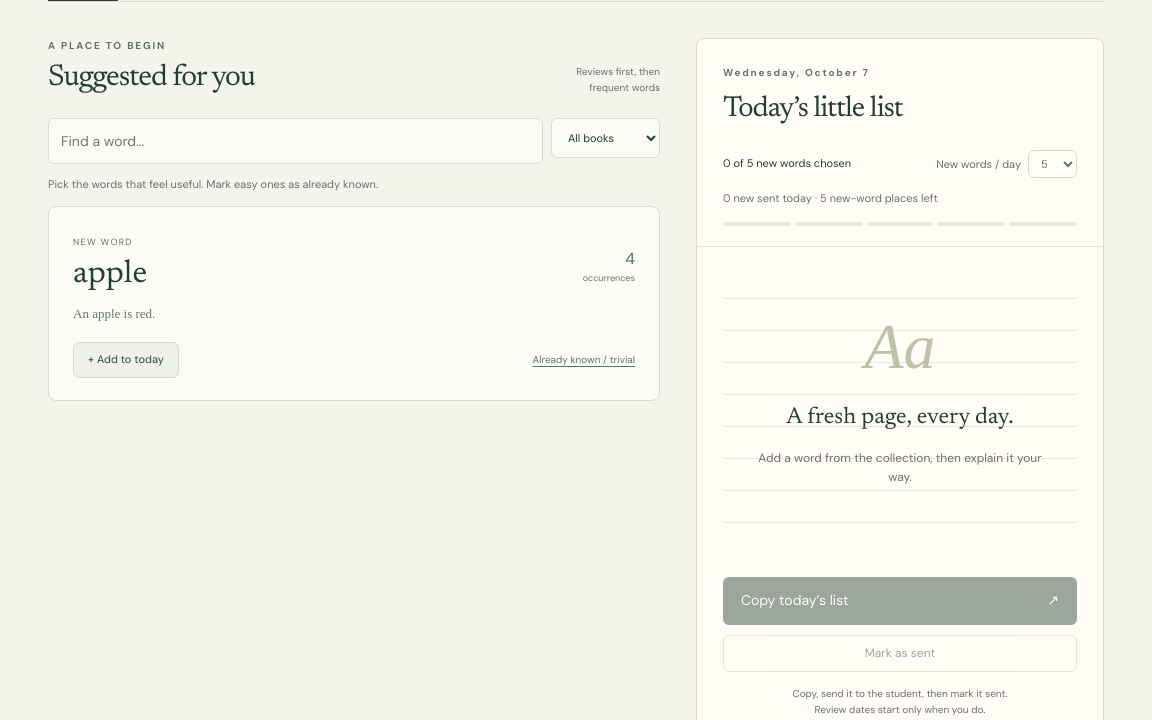
Scenario: administrator explanation controls › does not offer publishing to a non-admin in Today
(page scrolled)
Click the button "+ Add to today": [126, 360] box x1=73 y1=342 x2=179 y2=378
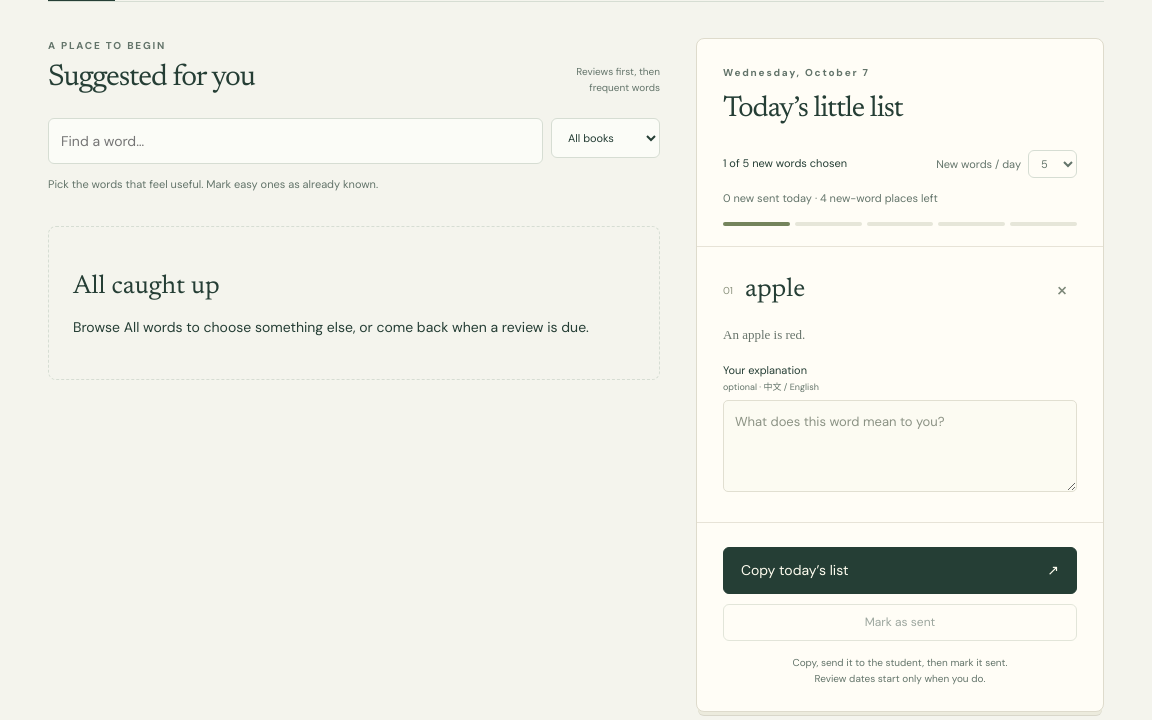
Now the text box named "Explanation for apple" is shown, box x1=723 y1=400 x2=1077 y2=492
